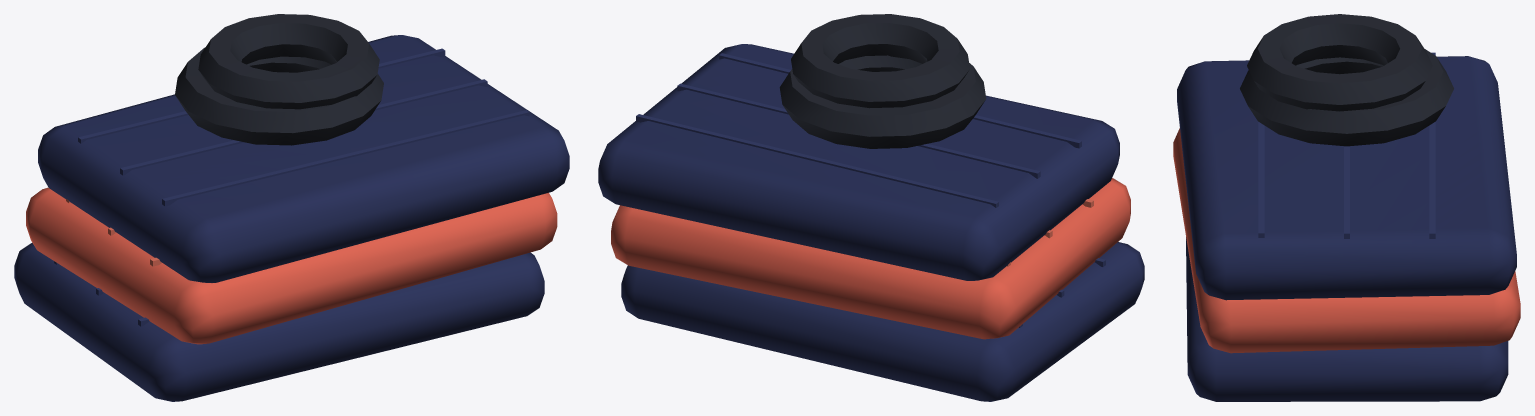
The model's file is SM_Prop_SoundBlankets.fbx.
The picture shows the model from 3 angles, left to right: view 1: azimuth 30°, elevation 25°; view 2: azimuth 150°, elevation 25°; view 3: azimuth 270°, elevation 25°; orthographic projection. The views are drawn at different scales.
Visible parts, largest first — view 1: SM_Prop_SoundBlankets; view 2: SM_Prop_SoundBlankets; view 3: SM_Prop_SoundBlankets.
Boxes of the visible parts, x1,y1,x2,y2 form: SM_Prop_SoundBlankets: (14,14,569,401); SM_Prop_SoundBlankets: (598,14,1144,401); SM_Prop_SoundBlankets: (1173,14,1520,401).
Bounding box in the file's own units: 69.99 × 41.78 × 48.79.
